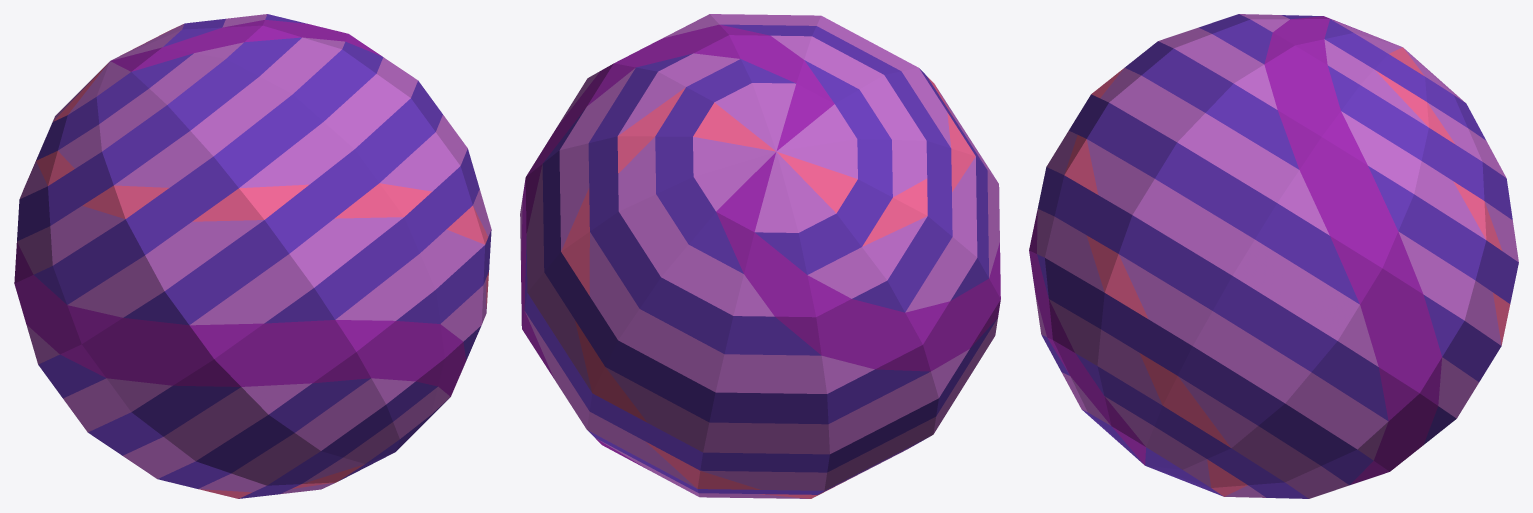
The model's file is yarn.glb.
The picture shows the model from 3 angles, left to right: view 1: azimuth 30°, elevation 25°; view 2: azimuth 150°, elevation 25°; view 3: azimuth 270°, elevation 25°; orthographic projection. The views are drawn at different scales.
Parts seen in each view (by area): view 1: group1970492613; view 2: group1970492613; view 3: group1970492613.
Part boxes in pixels (x1,y1,x2,y2): group1970492613: [14, 14, 491, 498]; group1970492613: [520, 14, 1000, 498]; group1970492613: [1029, 14, 1518, 498].
Size of the model in its own units: 0.5672 by 0.5752 by 0.5779.
